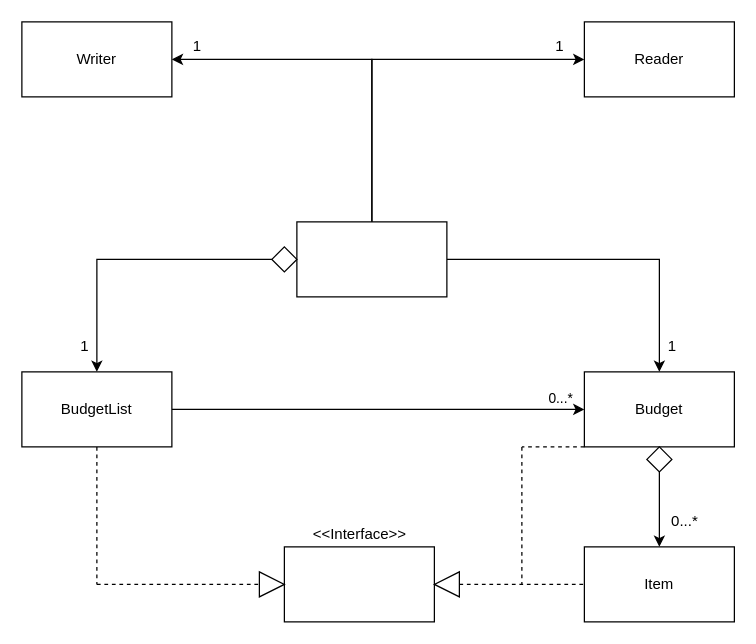
Image size: 756x644. Some labels were removed from this diagram. The box of each missing label's shape, as (x1, y1, x2, y2) in pixels:
BudgetApp: (296, 221, 447, 297)
Writable: (283, 546, 434, 622)
